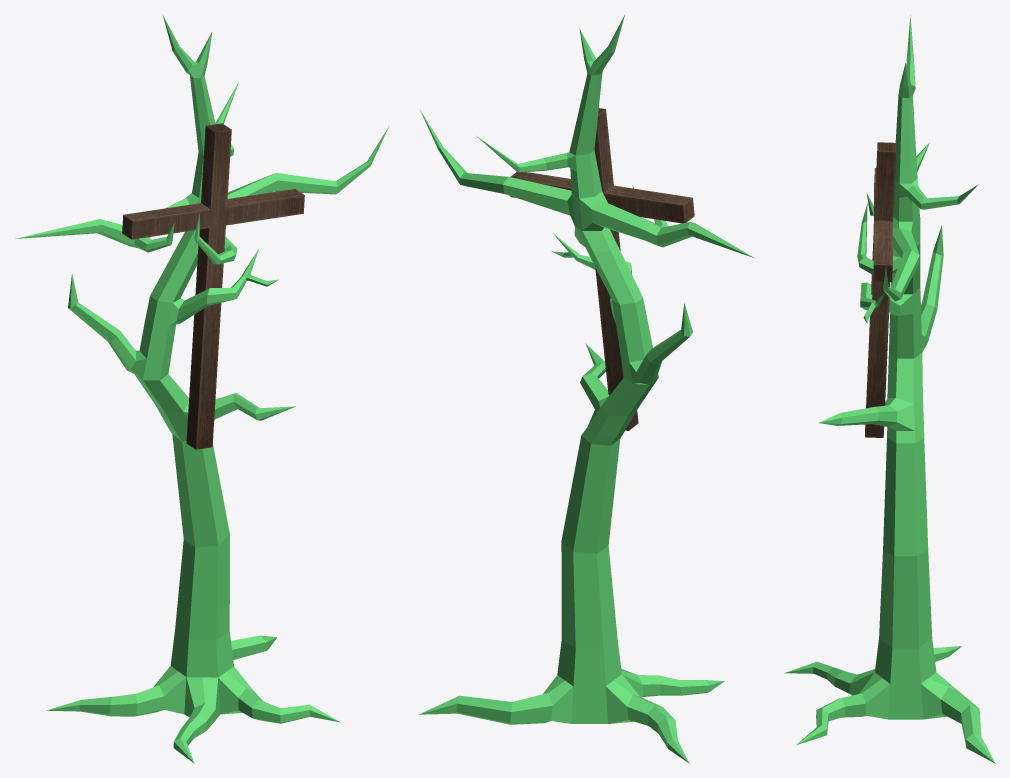
File: Church.Cross.fbx
3 views of the same model, side by side, from view 1: azimuth 30°, elevation 25°; view 2: azimuth 150°, elevation 25°; view 3: azimuth 270°, elevation 25° (orthographic). The views are drawn at different scales.
Visible parts, largest first — view 1: Tree_Cross, Church.Cross; view 2: Tree_Cross, Church.Cross; view 3: Tree_Cross, Church.Cross.
Part boxes in pixels (x1=…): Tree_Cross: x1=15, y1=15, x2=388, y2=763; Church.Cross: x1=122, y1=123, x2=304, y2=449; Tree_Cross: x1=419, y1=15, x2=754, y2=763; Church.Cross: x1=510, y1=108, x2=694, y2=430; Tree_Cross: x1=784, y1=14, x2=995, y2=763; Church.Cross: x1=865, y1=142, x2=895, y2=437.
Size of the model in its own units: 316 by 594 by 169.
